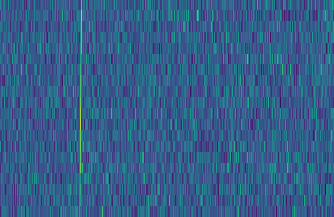signal: (72, 0, 83, 217)
